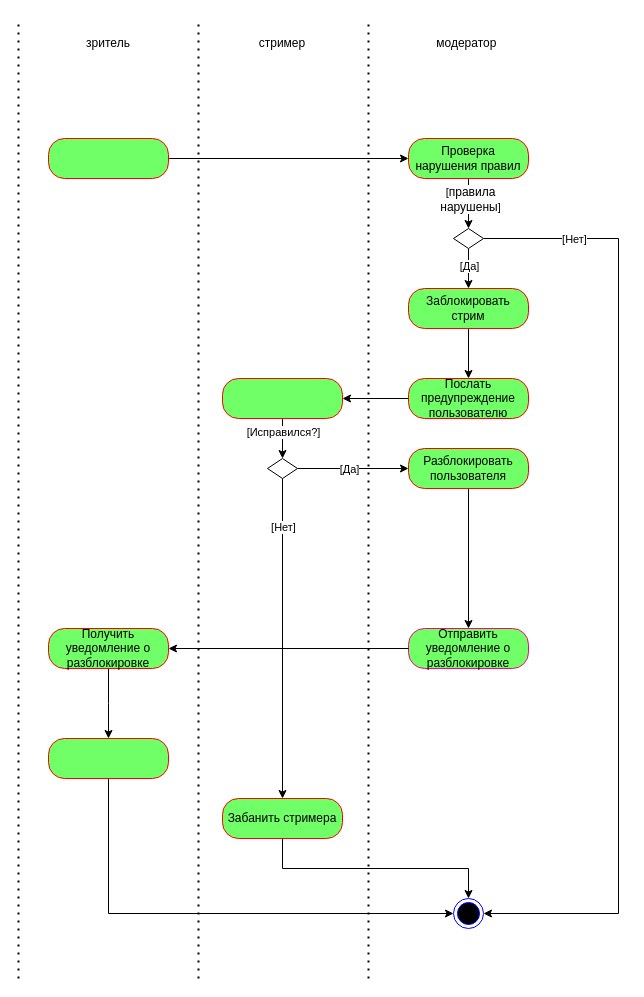
The diagram is 644 pixels wide and 997 high, and some of its shapes have lost their labels. The centre of each missing label's shape, as x and y in pixels:
Зайти на стрим к исправленному стримеру: the point at 108,758
Исправиться(подчиниться): the point at 282,398
Отправка жалобы: the point at 108,158
